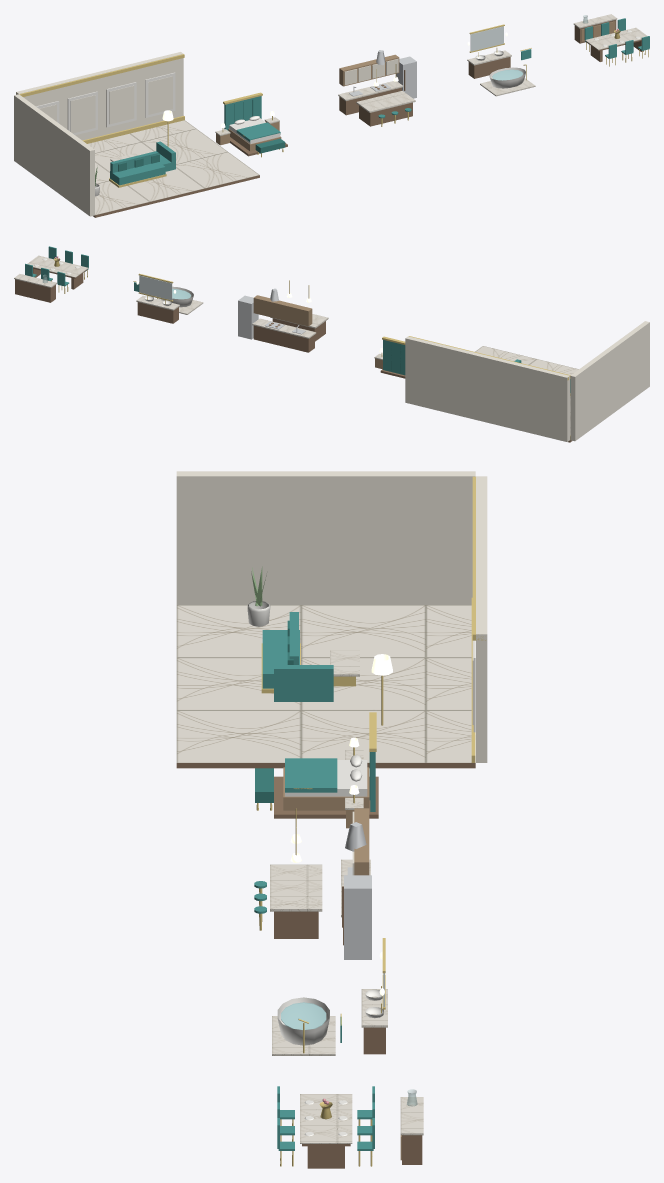
Rendered from kit-33-interior-rumah-mewah.glb.
The picture shows the model from 3 angles, top to bottom: view 1: azimuth 30°, elevation 25°; view 2: azimuth 150°, elevation 25°; view 3: azimuth 270°, elevation 25°; orthographic projection. The views are drawn at different scales.
Parts seen in each view (by area): view 1: RmhMwhIn_RuangTamu, RmhMwhIn_DapurMewah, RmhMwhIn_KamarTidur, RmhMwhIn_KamarMandi, RmhMwhIn_RuangMakan; view 2: RmhMwhIn_RuangTamu, RmhMwhIn_DapurMewah, RmhMwhIn_RuangMakan, RmhMwhIn_KamarMandi, RmhMwhIn_KamarTidur; view 3: RmhMwhIn_RuangTamu, RmhMwhIn_DapurMewah, RmhMwhIn_KamarTidur, RmhMwhIn_RuangMakan, RmhMwhIn_KamarMandi.
Boxes of the visible parts, box(x1,y1,x2,y2) form: RmhMwhIn_RuangTamu: box(14, 52, 259, 217); RmhMwhIn_DapurMewah: box(338, 50, 416, 126); RmhMwhIn_KamarTidur: box(215, 92, 287, 157); RmhMwhIn_KamarMandi: box(467, 24, 535, 96); RmhMwhIn_RuangMakan: box(573, 14, 649, 66); RmhMwhIn_RuangTamu: box(405, 321, 649, 442); RmhMwhIn_DapurMewah: box(238, 280, 328, 352); RmhMwhIn_RuangMakan: box(14, 246, 88, 302); RmhMwhIn_KamarMandi: box(133, 273, 203, 323); RmhMwhIn_KamarTidur: box(374, 336, 405, 378); RmhMwhIn_RuangTamu: box(176, 471, 487, 768); RmhMwhIn_DapurMewah: box(254, 808, 371, 959); RmhMwhIn_KamarTidur: box(255, 712, 378, 828); RmhMwhIn_RuangMakan: box(277, 1086, 423, 1168); RmhMwhIn_KamarMandi: box(272, 938, 387, 1055).
Bounding box in the file's own units: 35.86 × 3.95 × 8.31.
Materials: 15 (1 with a texture image).
